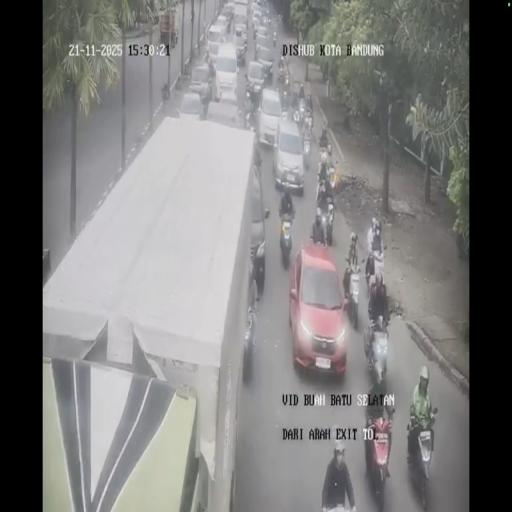3: (206, 98, 238, 129), (159, 5, 178, 49), (232, 0, 248, 32)
car: (289, 243, 347, 378), (273, 117, 304, 192), (250, 158, 266, 292), (258, 86, 284, 149), (188, 64, 214, 108), (206, 23, 227, 64), (246, 59, 266, 99), (234, 28, 248, 62), (251, 0, 265, 19), (254, 23, 267, 42), (223, 1, 235, 20)
truck: (362, 398, 394, 509), (406, 406, 434, 510), (364, 314, 391, 388), (343, 256, 361, 328), (278, 206, 295, 268), (300, 111, 314, 165), (366, 243, 385, 282), (324, 204, 335, 244), (316, 171, 328, 206), (278, 57, 290, 89), (280, 85, 292, 112), (244, 102, 254, 132), (292, 96, 302, 125), (318, 126, 328, 149), (306, 91, 313, 114), (272, 28, 277, 46)
